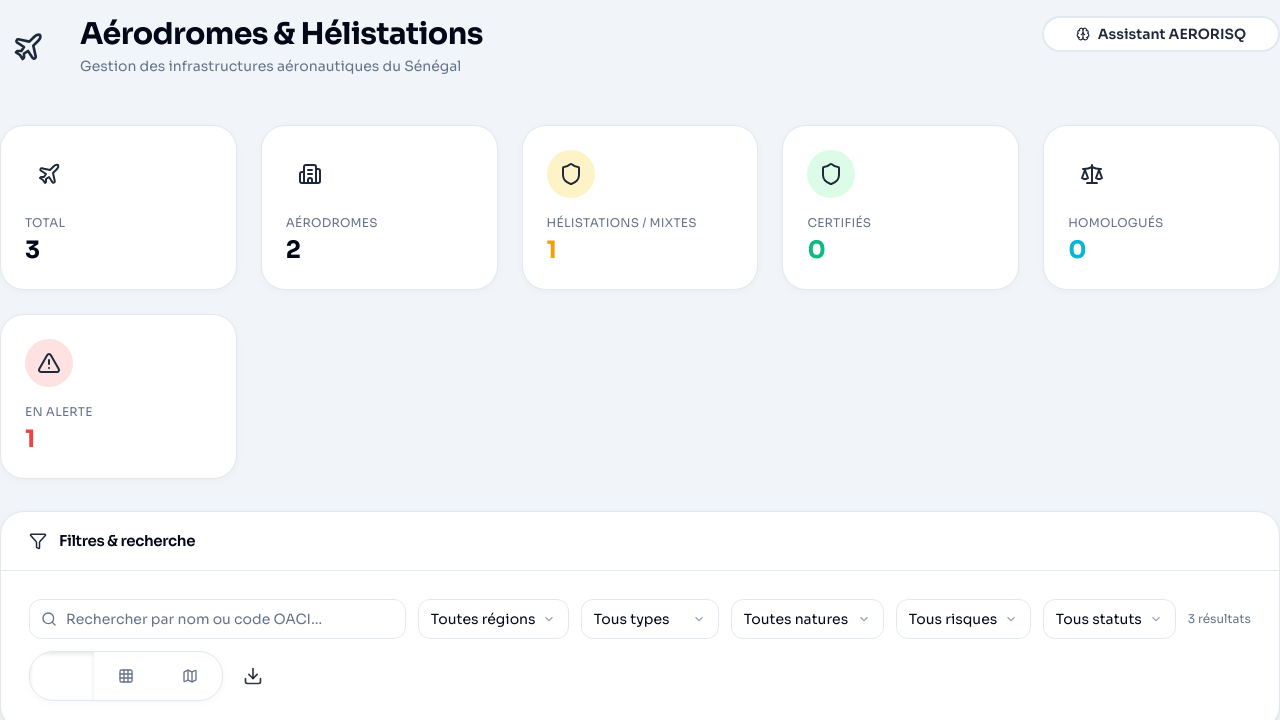
Test: AerodromesModule › Filtre par recherche texte › affiche le message vide si aucun résultat
Type "xxxxxx_inexistant" into the field with placeholder "Rechercher par nom ou code OACI…" at (217,619), box [29, 599, 406, 639]
(page scrolled)
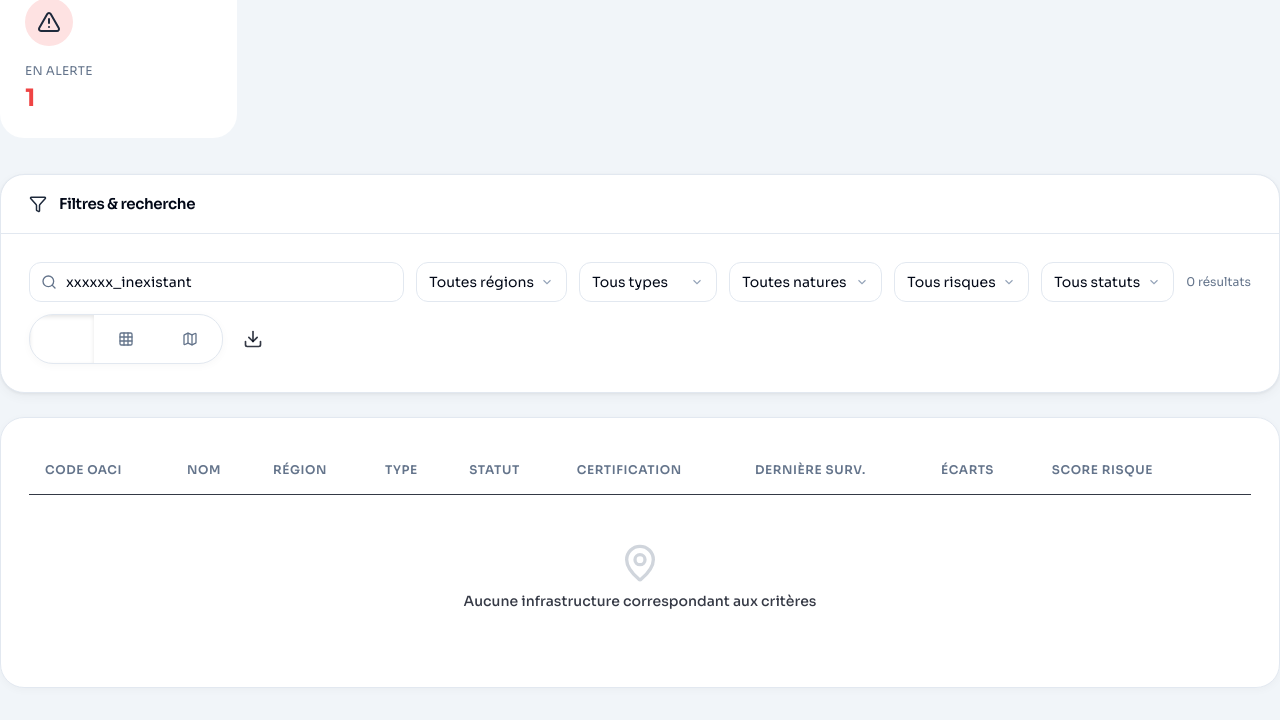
Expected: the text "Aucune infrastructure correspondant aux critères" is shown, [464, 591, 816, 611]
